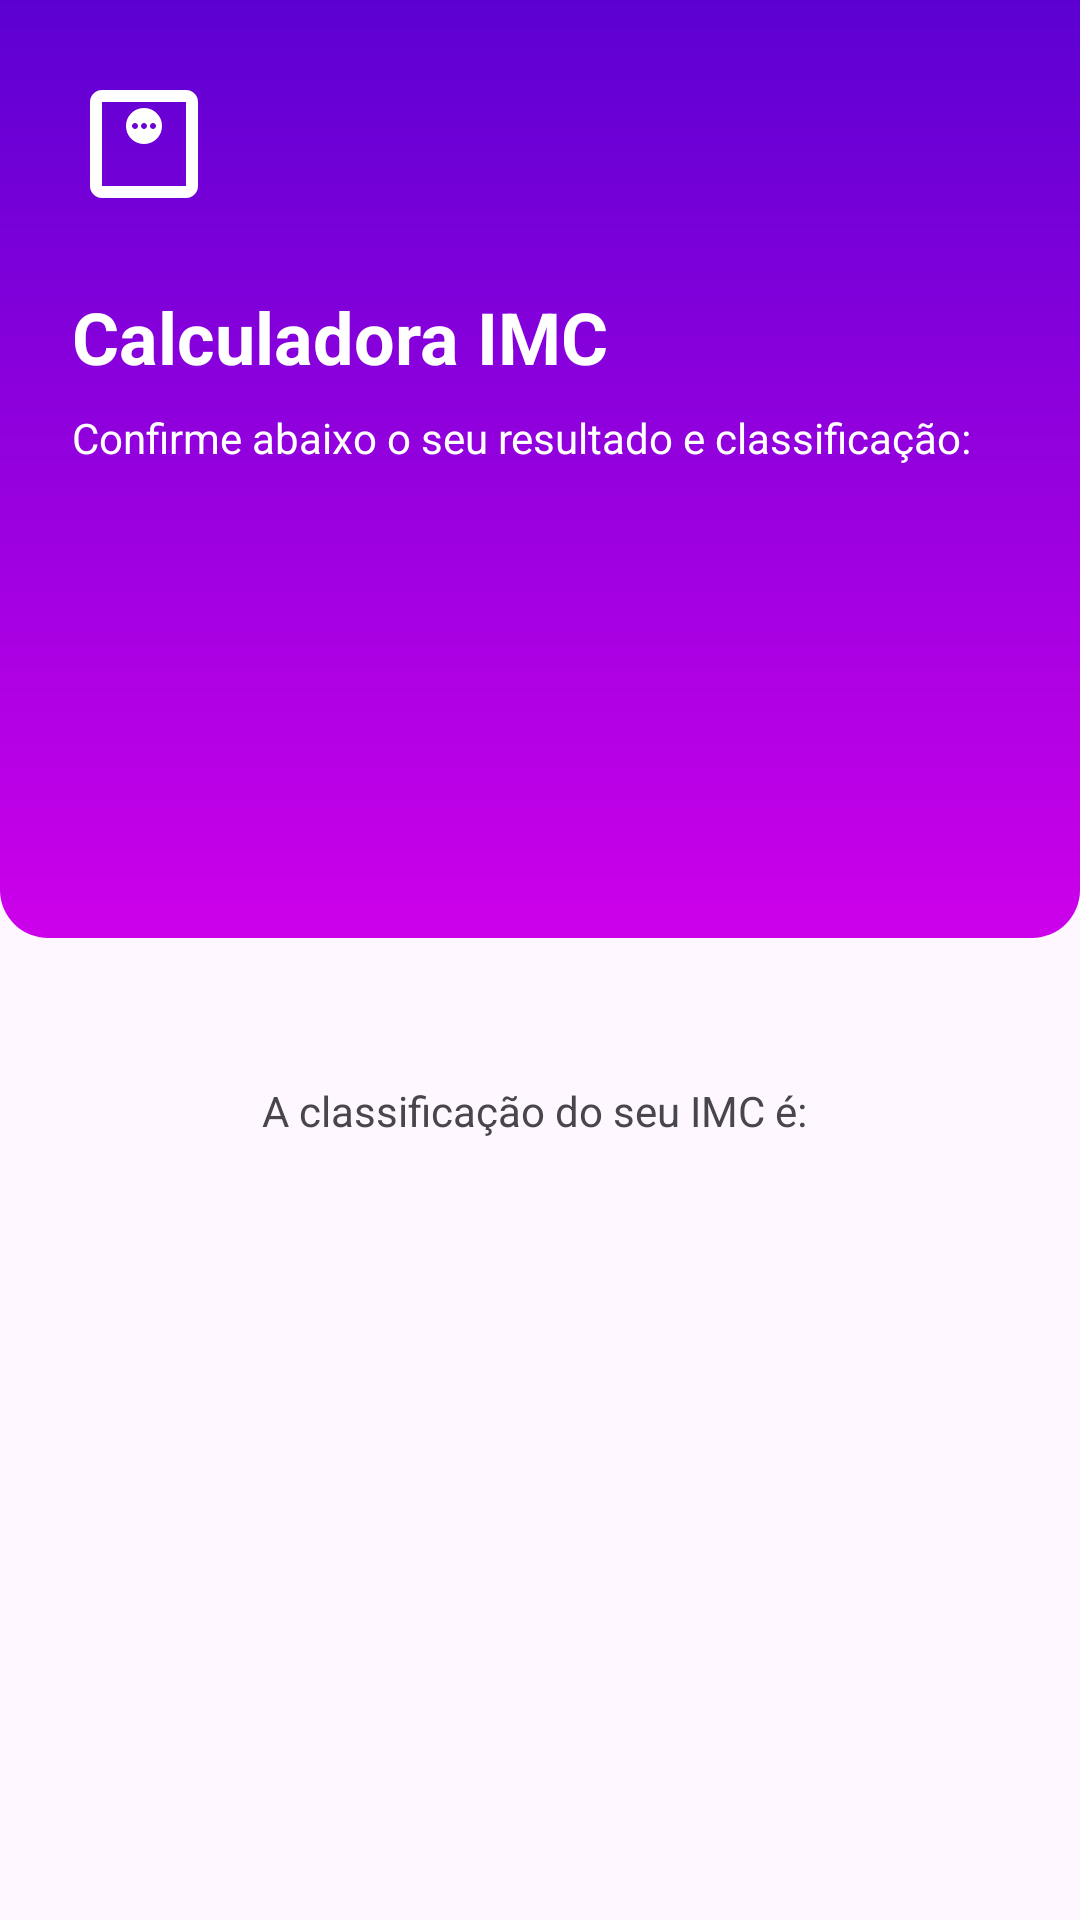

Icons on this 1080×1920 Android screen, each with the point to tap as (x=x, y=y):
weight: (x=144, y=153)
